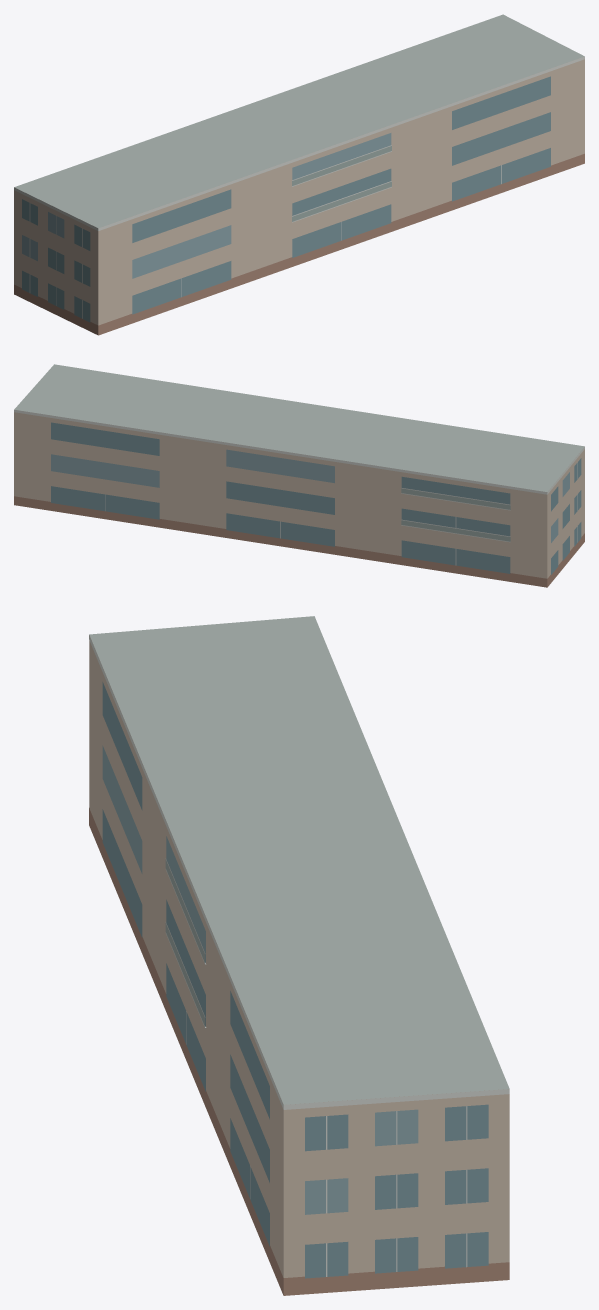
The model's file is survey-upis-32753545.glb.
3 views of the same model, one above another, from view 1: azimuth 30°, elevation 25°; view 2: azimuth 150°, elevation 25°; view 3: azimuth 270°, elevation 25° (orthographic). The views are drawn at different scales.
Visible parts, largest first — view 1: survey-upis-32753545.tmp; view 2: survey-upis-32753545.tmp; view 3: survey-upis-32753545.tmp.
Boxes of the visible parts, x1,y1,x2,y2 form: survey-upis-32753545.tmp: (14,14,584,335); survey-upis-32753545.tmp: (14,364,584,587); survey-upis-32753545.tmp: (89,616,509,1295).
Size of the model in its own units: 50.25 by 9.15 by 18.28.
